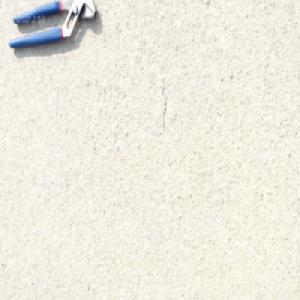Pliers: (7, 0, 97, 51)
